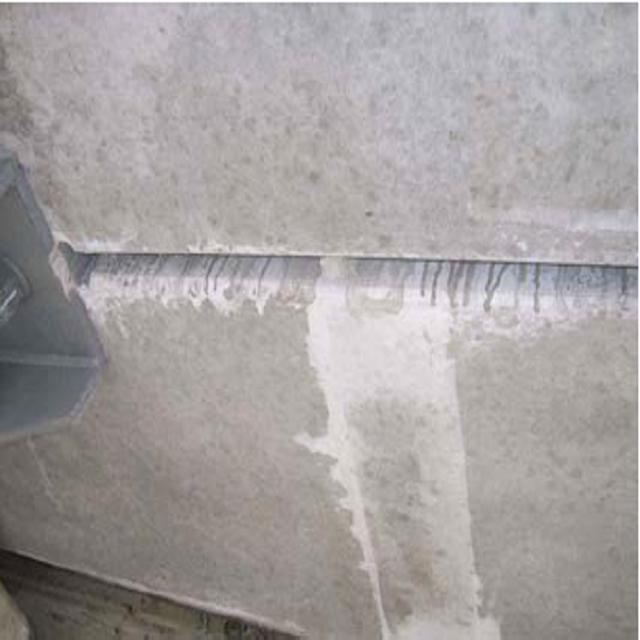freelime: (298, 347, 492, 640), (67, 237, 634, 337)
